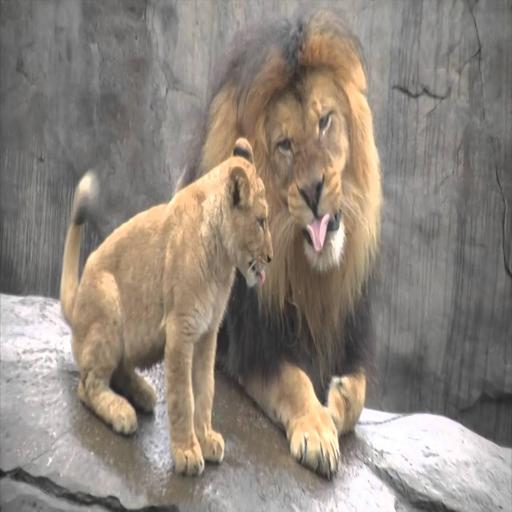Lion: (172, 11, 392, 483), (53, 148, 280, 498)
